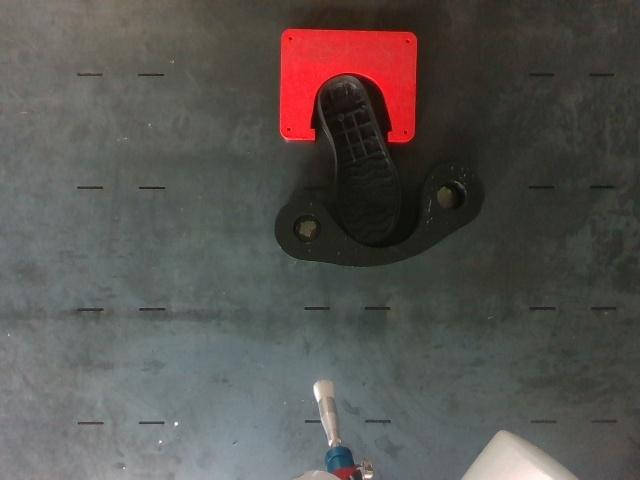shoes: (321, 76, 399, 244)
